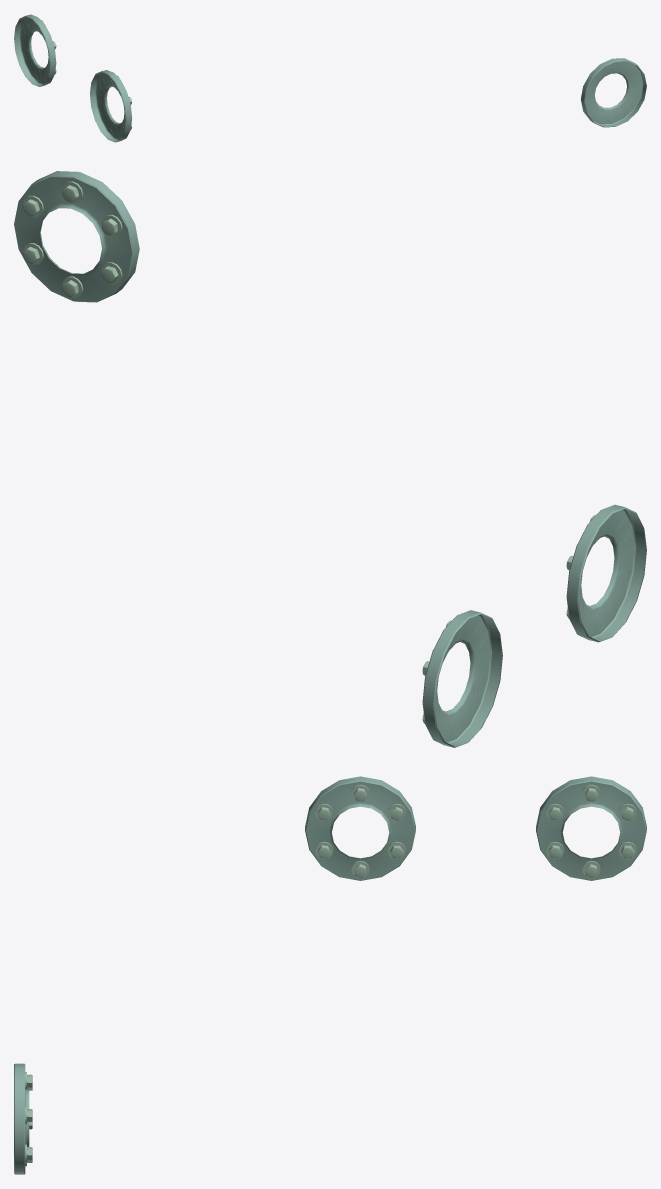
The model's file is PipeComplexLarge_A3_12_End.fbx.
3 renders of one model, top to bottom at view 1: azimuth 30°, elevation 25°; view 2: azimuth 150°, elevation 25°; view 3: azimuth 270°, elevation 25°, orthographic. The views are drawn at different scales.
Parts seen in each view (by area): view 1: PipeComplexLarge_A3_12_End.001; view 2: PipeComplexLarge_A3_12_End.001; view 3: PipeComplexLarge_A3_12_End.001.
Boxes of the visible parts, x1,y1,x2,y2 form: PipeComplexLarge_A3_12_End.001: (14, 14, 646, 142); PipeComplexLarge_A3_12_End.001: (14, 171, 646, 747); PipeComplexLarge_A3_12_End.001: (14, 776, 646, 1174).
Size of the model in its own units: 2.59 by 0.3846 by 2.19.
